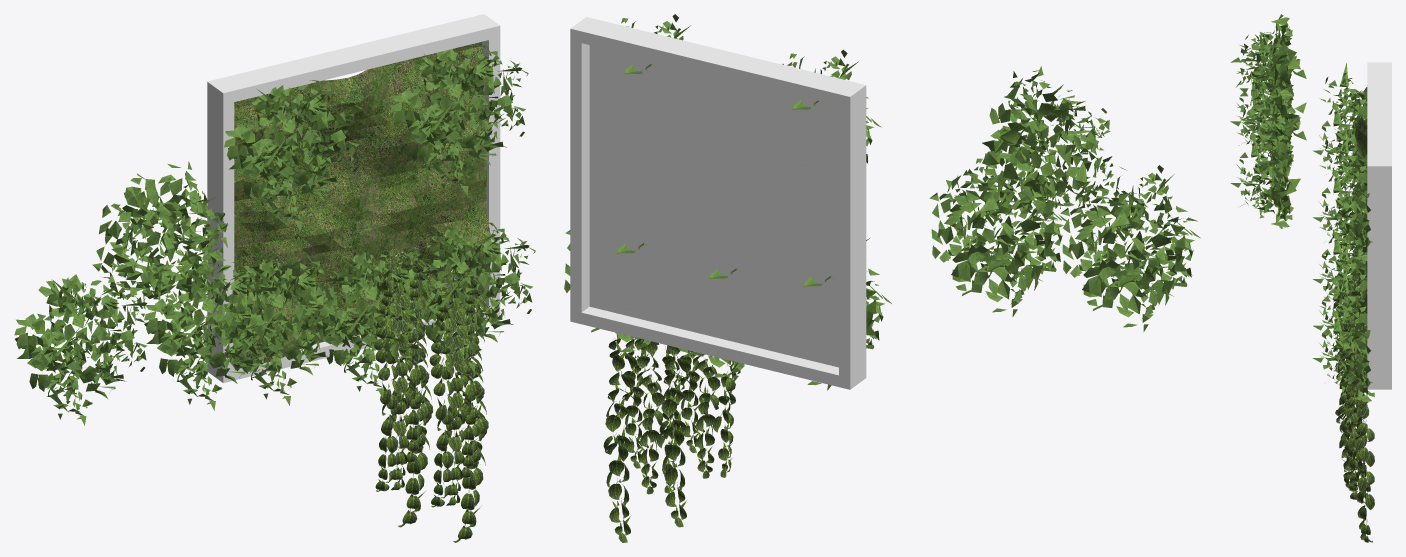
The model's file is Wall Planter 2.glb.
3 renders of one model, left to right at view 1: azimuth 30°, elevation 25°; view 2: azimuth 150°, elevation 25°; view 3: azimuth 270°, elevation 25°, orthographic. The views are drawn at different scales.
Visible parts, largest first — view 1: 3b2c1e56-f82f-46eb-a49a-de3a6d2ed6fd, 66c019a5-f756-464f-bb57-cc24d7d9fdab, 06c098a1-afb0-4d27-9c62-c4e7f0c29c67, b2101e21-69a4-4ee8-ae3a-9eee0154193c, 156b9c6e-3306-4fc2-9812-f03555a74b20, 2fc226af-e480-4beb-9f6f-9f7f76e292d6, de51a8a3-2504-4ea6-baa3-647c575c1283, b2e013d7-1a28-4fc5-8c96-7549ec7a3e85, 8fa789ba-f3a3-4f94-8774-2c18ac814ec7, cfbf921a-e33a-4e18-85dd-6daf42c344b5, df25c76b-dc64-4b5c-b32d-965aab8e3e1a, 3bb69df8-8f50-465c-9cd1-00a55f27faaa (+6 smaller); view 2: 9aff05ad-b4d0-494f-9631-02aa940d7ff9, 66c019a5-f756-464f-bb57-cc24d7d9fdab, b2101e21-69a4-4ee8-ae3a-9eee0154193c, de51a8a3-2504-4ea6-baa3-647c575c1283, 06c098a1-afb0-4d27-9c62-c4e7f0c29c67, 68739ffd-67a5-4489-b5f6-8fed39f7b9f3, 81705489-9719-4706-b03e-5b63cf79b26a, e724abcd-cf4c-4bbf-bb7e-240005756d6c, 4b128352-0821-4049-8361-8d891697ac77, 4442672e-8010-46b9-b374-6f2ccc167c01, 3bb69df8-8f50-465c-9cd1-00a55f27faaa, 55b2dc62-f415-4e4d-b32d-881913ac4cb2 (+3 smaller); view 3: 66c019a5-f756-464f-bb57-cc24d7d9fdab, 06c098a1-afb0-4d27-9c62-c4e7f0c29c67, de51a8a3-2504-4ea6-baa3-647c575c1283, 2fc226af-e480-4beb-9f6f-9f7f76e292d6, cfbf921a-e33a-4e18-85dd-6daf42c344b5, 156b9c6e-3306-4fc2-9812-f03555a74b20, 68739ffd-67a5-4489-b5f6-8fed39f7b9f3, 8fa789ba-f3a3-4f94-8774-2c18ac814ec7, b2101e21-69a4-4ee8-ae3a-9eee0154193c, b2e013d7-1a28-4fc5-8c96-7549ec7a3e85, 4442672e-8010-46b9-b374-6f2ccc167c01, e724abcd-cf4c-4bbf-bb7e-240005756d6c (+4 smaller).
Boxes of the visible parts, <box> form: 3b2c1e56-f82f-46eb-a49a-de3a6d2ed6fd: <box>234,42,491,363</box>; 66c019a5-f756-464f-bb57-cc24d7d9fdab: <box>207,14,500,382</box>; 06c098a1-afb0-4d27-9c62-c4e7f0c29c67: <box>92,161,229,328</box>; b2101e21-69a4-4ee8-ae3a-9eee0154193c: <box>14,274,154,425</box>; 156b9c6e-3306-4fc2-9812-f03555a74b20: <box>224,80,361,230</box>; 2fc226af-e480-4beb-9f6f-9f7f76e292d6: <box>390,45,528,195</box>; de51a8a3-2504-4ea6-baa3-647c575c1283: <box>144,261,283,410</box>; b2e013d7-1a28-4fc5-8c96-7549ec7a3e85: <box>214,255,350,405</box>; 8fa789ba-f3a3-4f94-8774-2c18ac814ec7: <box>307,247,443,397</box>; cfbf921a-e33a-4e18-85dd-6daf42c344b5: <box>403,222,535,373</box>; df25c76b-dc64-4b5c-b32d-965aab8e3e1a: <box>427,280,457,507</box>; 3bb69df8-8f50-465c-9cd1-00a55f27faaa: <box>367,265,402,491</box>; 9aff05ad-b4d0-494f-9631-02aa940d7ff9: <box>589,45,838,367</box>; 66c019a5-f756-464f-bb57-cc24d7d9fdab: <box>570,17,866,389</box>; b2101e21-69a4-4ee8-ae3a-9eee0154193c: <box>1060,165,1200,331</box>; de51a8a3-2504-4ea6-baa3-647c575c1283: <box>929,151,1069,316</box>; 06c098a1-afb0-4d27-9c62-c4e7f0c29c67: <box>982,66,1126,219</box>; 68739ffd-67a5-4489-b5f6-8fed39f7b9f3: <box>603,332,637,542</box>; 81705489-9719-4706-b03e-5b63cf79b26a: <box>659,345,690,527</box>; e724abcd-cf4c-4bbf-bb7e-240005756d6c: <box>634,337,663,494</box>; 4b128352-0821-4049-8361-8d891697ac77: <box>692,354,720,478</box>; 4442672e-8010-46b9-b374-6f2ccc167c01: <box>622,336,647,468</box>; 3bb69df8-8f50-465c-9cd1-00a55f27faaa: <box>712,361,740,477</box>; 55b2dc62-f415-4e4d-b32d-881913ac4cb2: <box>678,351,699,452</box>; 66c019a5-f756-464f-bb57-cc24d7d9fdab: <box>1367,62,1391,389</box>; 06c098a1-afb0-4d27-9c62-c4e7f0c29c67: <box>1230,14,1306,143</box>; de51a8a3-2504-4ea6-baa3-647c575c1283: <box>1230,95,1306,228</box>; 2fc226af-e480-4beb-9f6f-9f7f76e292d6: <box>1313,130,1372,261</box>; cfbf921a-e33a-4e18-85dd-6daf42c344b5: <box>1312,270,1374,402</box>; 156b9c6e-3306-4fc2-9812-f03555a74b20: <box>1313,63,1367,187</box>; 68739ffd-67a5-4489-b5f6-8fed39f7b9f3: <box>1348,327,1374,542</box>; 8fa789ba-f3a3-4f94-8774-2c18ac814ec7: <box>1313,240,1367,351</box>; b2101e21-69a4-4ee8-ae3a-9eee0154193c: <box>1230,34,1306,156</box>; b2e013d7-1a28-4fc5-8c96-7549ec7a3e85: <box>1313,205,1366,316</box>; 4442672e-8010-46b9-b374-6f2ccc167c01: <box>1340,324,1361,487</box>; e724abcd-cf4c-4bbf-bb7e-240005756d6c: <box>1340,319,1367,499</box>.
Size of the model in its own units: 1.03 by 0.8942 by 0.3288.
Materials: 4 (3 with a texture image).
